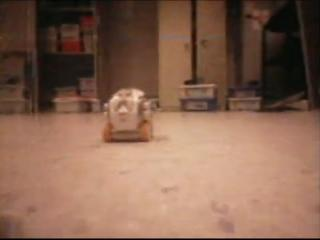cozmo: (102, 87, 154, 143)
